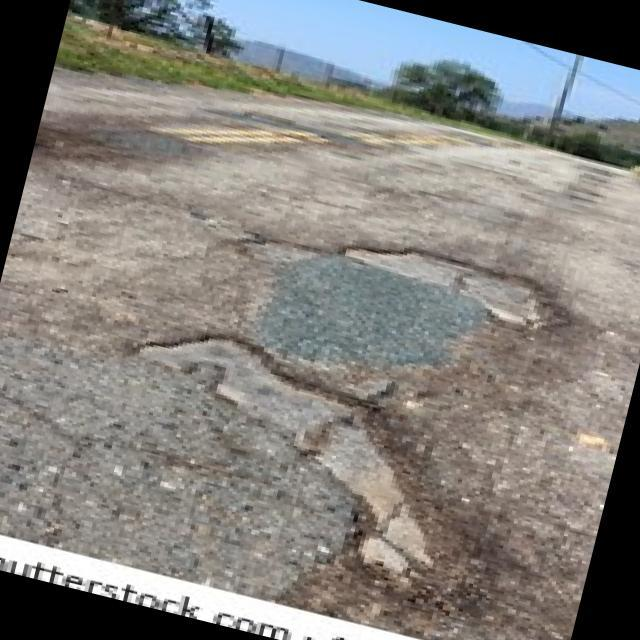Pothole: (89, 311, 533, 616), (332, 228, 568, 340), (233, 226, 326, 276)
